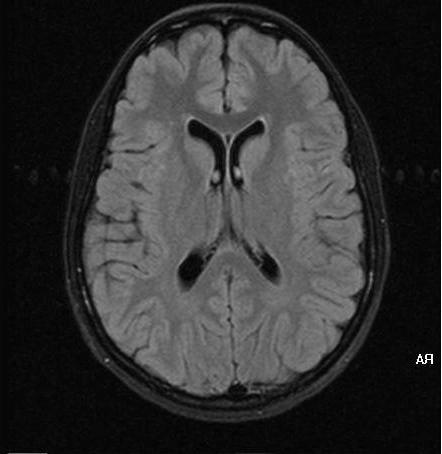Normal_Brain: (38, 1, 412, 454)
